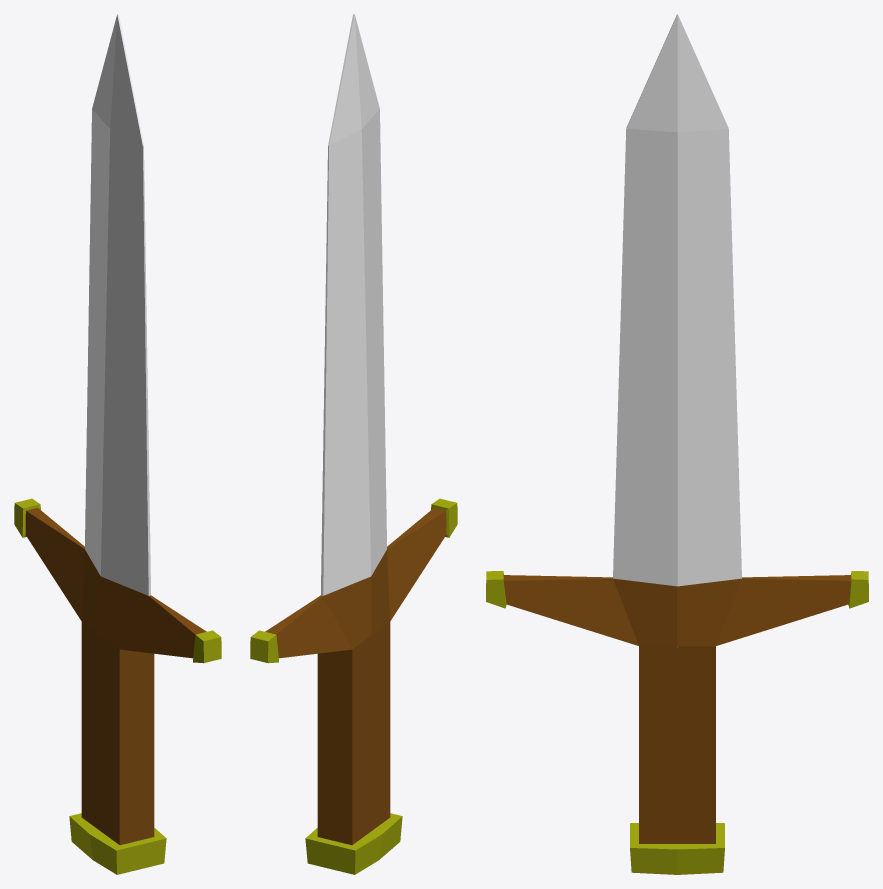
Rendered from sword.fbx.
3 views of the same model, side by side, from view 1: azimuth 30°, elevation 25°; view 2: azimuth 150°, elevation 25°; view 3: azimuth 270°, elevation 25° (orthographic).
Parts seen in each view (by area): view 1: Cube; view 2: Cube; view 3: Cube.
Part boxes in pixels (x1,y1,x2,y2): Cube: [14, 14, 221, 874]; Cube: [250, 14, 457, 874]; Cube: [486, 14, 868, 874].
Size of the model in its own units: 43.34 by 614 by 251.
